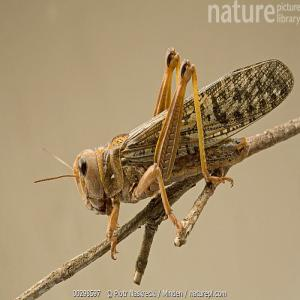locust: (74, 42, 294, 228)
